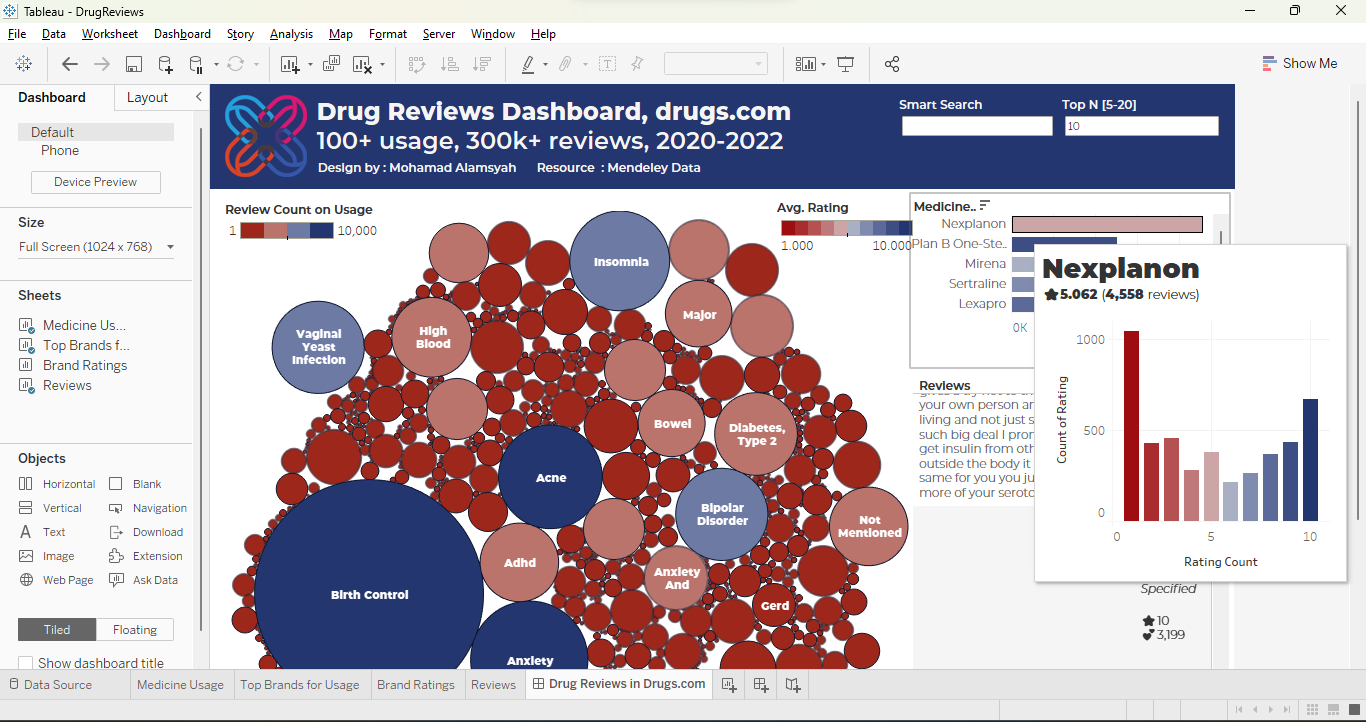

What the dashboard file says about the page in this screenshot:
{"tool":"tableau","page":{"name":"drug-reviews-bigquery","canvas":[1000,800],"ordinal":0},"visuals":[{"type":"text","box":[92,10,523,68]},{"type":"image","param":"C:/Users/acer/Downloads/PROJECTS-2.0/DrugReviews/drugscom-logomark-112x112.png","box":[11,14,78,83]},{"type":"parameter","param":"[Parameters].[Parameter 2]","box":[807,14,159,67]},{"type":"parameter","param":"[Parameters].[Parameter 1]","box":[619,15,151,44]},{"type":"text","box":[620,56,180,45]},{"type":"text","box":[819,62,134,33]},{"type":"text","box":[93,68,440,32]},{"type":"worksheet","title":"Top Brands by Usage","mark":"Automatic","rows":["MedicineBrandName"],"cols":["Reviews"],"box":[605,100,388,215]},{"type":"legend","title":"Medicine Usage","param":"[federated.18pzkps1q4mk2b1e8keax0oiqh2z].[cnt:MedicineUsedFor:qk]","box":[18,115,168,76]},{"type":"legend","title":"Top Brands by Usage","param":"[federated.18pzkps1q4mk2b1e8keax0oiqh2z].[avg:Rating:qk]","box":[357,117,233,76]},{"type":"worksheet","title":"Medicine Usage","mark":"Circle","box":[10,176,591,608]},{"type":"worksheet","title":"Top Generics by Usage","mark":"Automatic","rows":["MedicineGenericName"],"cols":["Reviews"],"box":[606,305,387,214]},{"type":"text","box":[608,525,384,47]},{"type":"worksheet","title":"Reviews","mark":"Automatic","rows":["Reviews"],"box":[605,556,388,234]}]}

Visuals, with their boxes on the page's 1000x800 design canvas (x1, y1, x2, y2). These are canvas units, not pixel positions in the 1366x722 screenshot, which may show the page scaled, cropped or inside an application window:
text: locate(92, 10, 615, 78)
image: locate(11, 14, 89, 97)
parameter: locate(807, 14, 966, 81)
parameter: locate(619, 15, 770, 59)
text: locate(620, 56, 800, 101)
text: locate(819, 62, 953, 95)
text: locate(93, 68, 533, 100)
"Top Brands by Usage" worksheet: locate(605, 100, 993, 315)
"Medicine Usage" legend: locate(18, 115, 186, 191)
"Top Brands by Usage" legend: locate(357, 117, 590, 193)
"Medicine Usage" worksheet (Circle marks): locate(10, 176, 601, 784)
"Top Generics by Usage" worksheet: locate(606, 305, 993, 519)
text: locate(608, 525, 992, 572)
"Reviews" worksheet: locate(605, 556, 993, 790)
